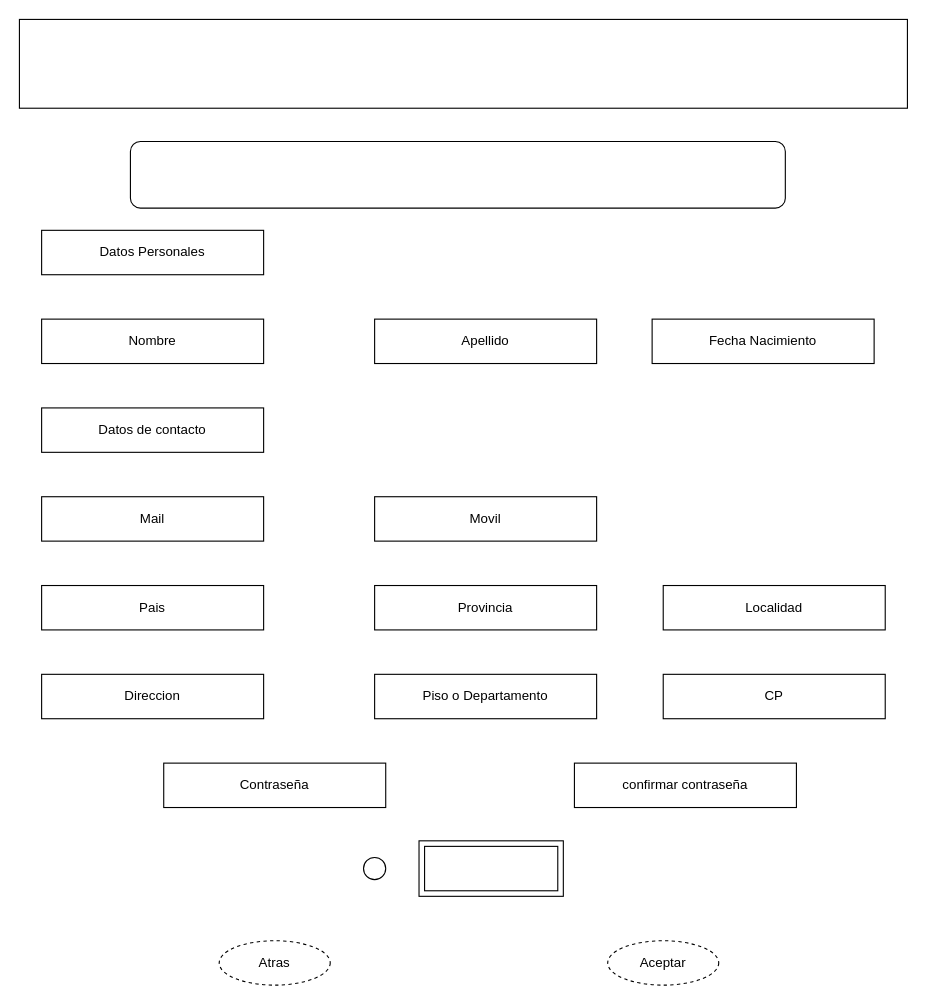
The diagram is 927 pixels wide and 1005 high, and some of its shapes have lost their labels. The centre of each missing label's shape, as x and y in pixels:
"Aceptar Terminos y condiciones" goes at pixel 490 868.
"Sección(registro)" goes at pixel 457 174.
"Titulo de la pagina" goes at pixel 462 63.
